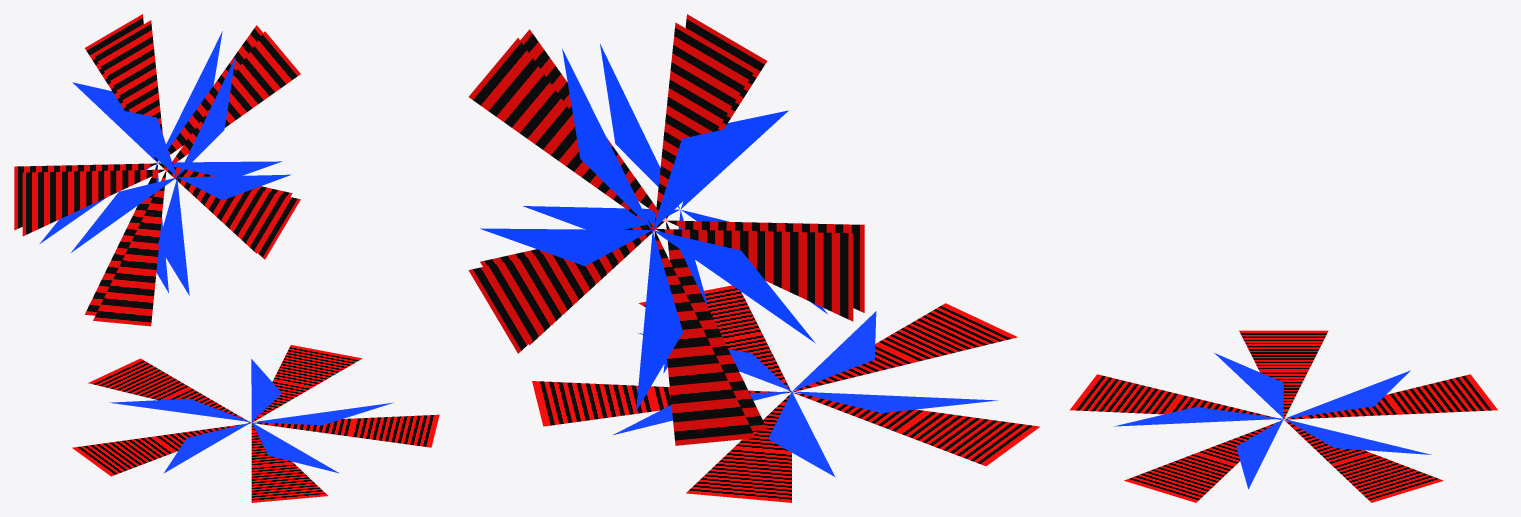
The model's file is plopela.glb.
3 views of the same model, side by side, from view 1: azimuth 30°, elevation 25°; view 2: azimuth 150°, elevation 25°; view 3: azimuth 270°, elevation 25° (orthographic). The views are drawn at different scales.
Parts seen in each view (by area): view 1: plopera; view 2: plopera; view 3: plopera.
Part boxes in pixels (left/top/right/bottom): plopera: left=14, top=14, right=439, bottom=502; plopera: left=468, top=14, right=1039, bottom=502; plopera: left=1070, top=330, right=1497, bottom=502.
Bounding box in the file's own units: 27.38 × 28.83 × 29.34.
2 materials, 1 textured.
